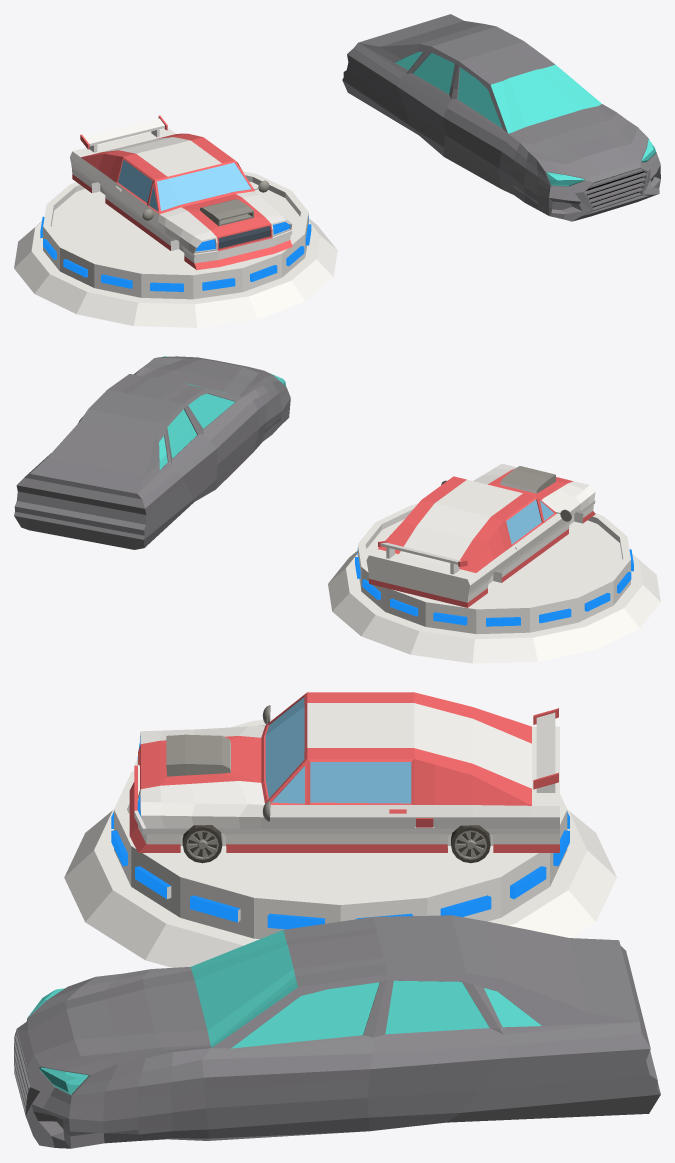
Rendered from Car.glb.
The picture shows the model from 3 angles, top to bottom: view 1: azimuth 30°, elevation 25°; view 2: azimuth 150°, elevation 25°; view 3: azimuth 270°, elevation 25°; orthographic projection. The views are drawn at different scales.
Parts seen in each view (by area): view 1: Cube.001, 展示台, 車子; view 2: Cube.001, 展示台, 車子; view 3: Cube.001, 車子, 展示台, 前輪, 後輪.
Part boxes in pixels (x1,y1,x2,y2): Cube.001: (342,14,660,221); 展示台: (14,171,337,327); 車子: (70,115,292,269); Cube.001: (14,356,290,549); 展示台: (328,504,660,663); 車子: (366,463,595,607); Cube.001: (14,915,660,1148); 車子: (129,692,559,852); 展示台: (64,719,616,967); 前輪: (182,825,222,863); 後輪: (451,825,490,863).
Bounding box in the file's own units: 19.96 × 4.18 × 12.09.
